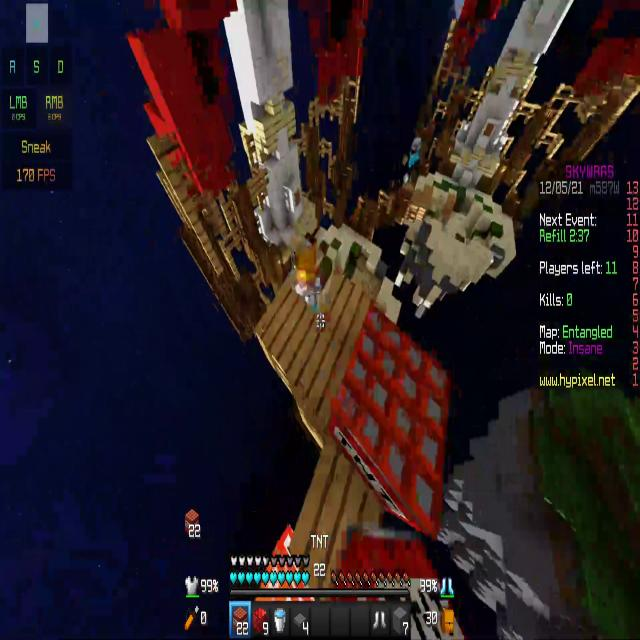Player: (290, 239, 322, 315), (401, 124, 426, 188)
